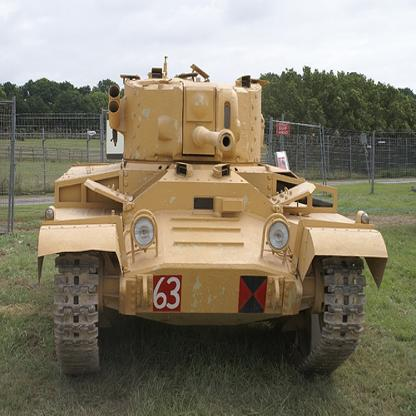Tank: (36, 52, 392, 387)
